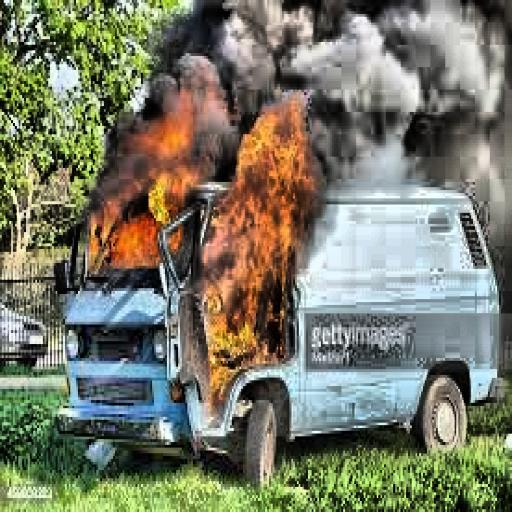fire: (197, 106, 315, 392), (76, 84, 210, 288)
